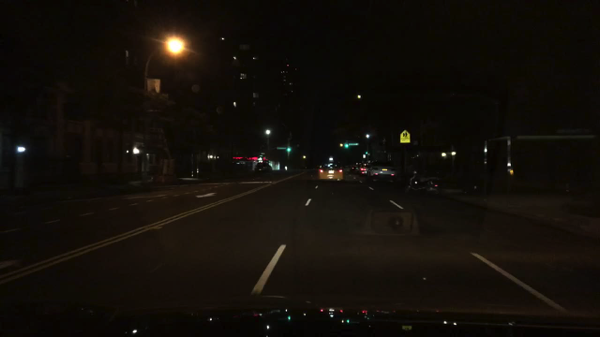car: (317, 156, 345, 183), (369, 161, 395, 183), (254, 163, 273, 173), (359, 164, 369, 174), (352, 165, 359, 172)
motor: (406, 169, 440, 195)
traffic light: (287, 147, 291, 154), (344, 143, 348, 150)
traffic sign: (400, 130, 411, 143), (276, 147, 287, 150), (348, 144, 359, 146), (363, 154, 366, 159)
